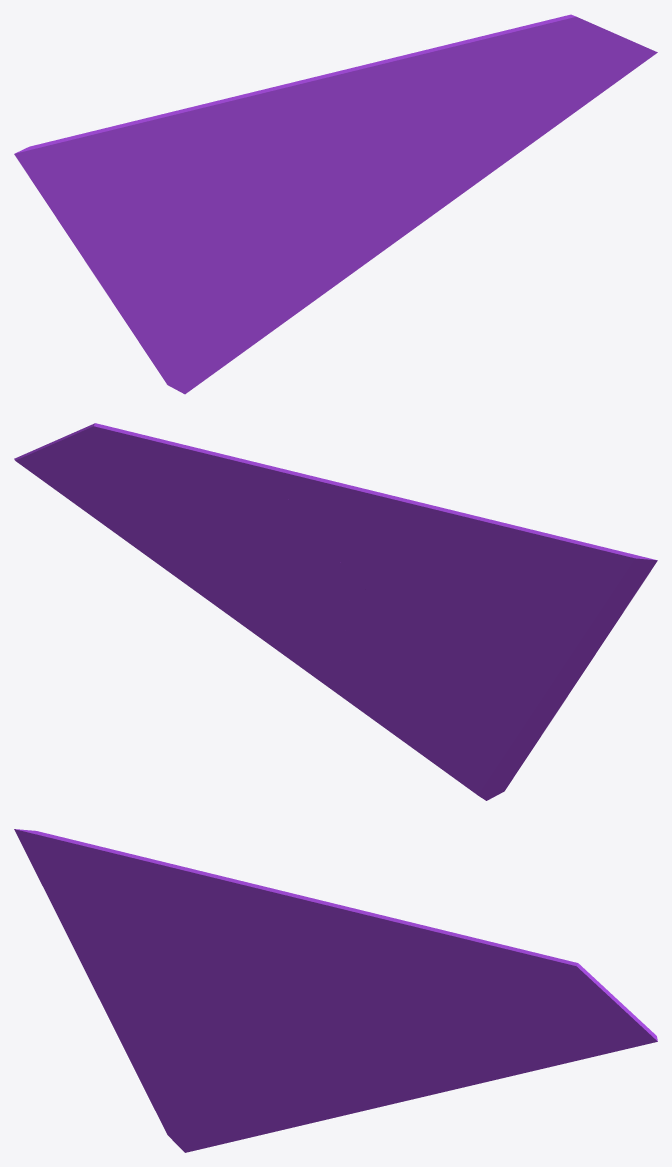
Rendered from Glass_78_12_chunks.fbx.
The picture shows the model from 3 angles, top to bottom: view 1: azimuth 30°, elevation 25°; view 2: azimuth 150°, elevation 25°; view 3: azimuth 330°, elevation 25°; orthographic projection.
Visible parts, largest first — view 1: Glass_78_12_1, Glass_78_12_2, Glass_78_12_0; view 2: Glass_78_12_1, Glass_78_12_2, Glass_78_12_0, Glass_78_12_3; view 3: Glass_78_12_1, Glass_78_12_2, Glass_78_12_0.
Part boxes in pixels (left/top/right/bottom): Glass_78_12_1: left=14, top=148, right=334, bottom=394; Glass_78_12_2: left=305, top=14, right=657, bottom=285; Glass_78_12_0: left=25, top=55, right=403, bottom=177; Glass_78_12_1: left=333, top=556, right=657, bottom=800; Glass_78_12_2: left=14, top=423, right=352, bottom=690; Glass_78_12_0: left=261, top=465, right=641, bottom=587; Glass_78_12_3: left=340, top=577, right=366, bottom=665; Glass_78_12_1: left=14, top=829, right=334, bottom=1152; Glass_78_12_2: left=305, top=922, right=657, bottom=1117; Glass_78_12_0: left=30, top=830, right=410, bottom=994.
Size of the model in its own units: 537 by 225 by 5.32.
